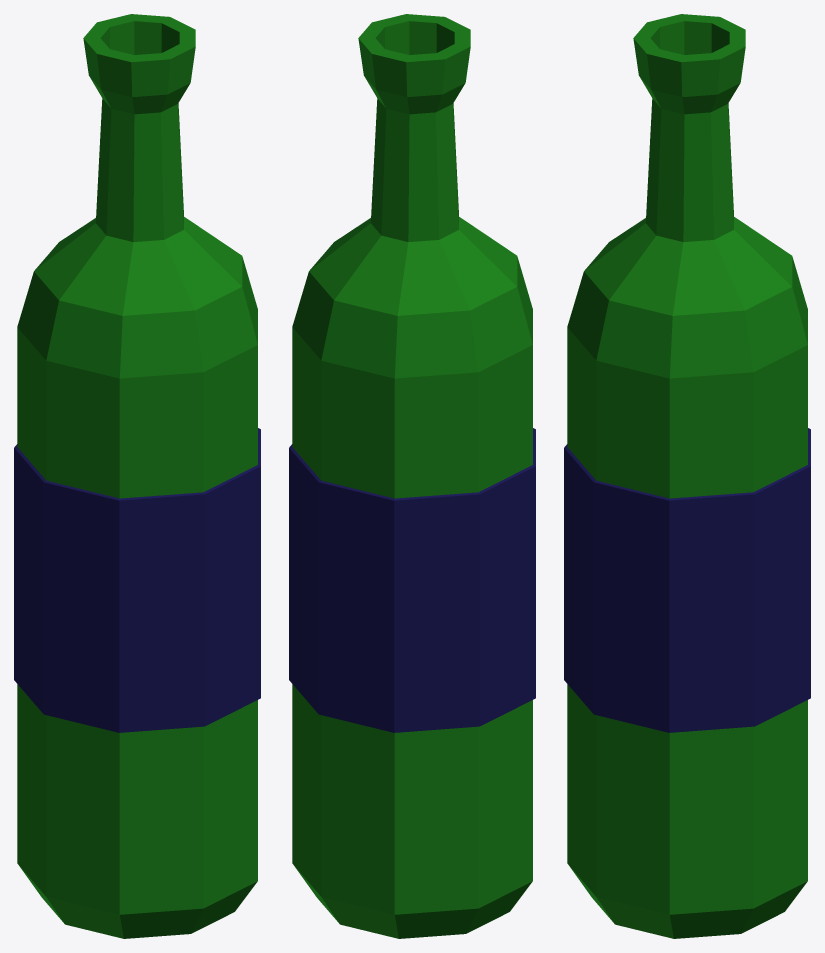
File: bottle_2.fbx
3 views of the same model, side by side, from view 1: azimuth 30°, elevation 25°; view 2: azimuth 150°, elevation 25°; view 3: azimuth 270°, elevation 25° (orthographic).
Parts seen in each view (by area): view 1: bottle_4; view 2: bottle_4; view 3: bottle_4.
Boxes of the visible parts, x1=… form: bottle_4: x1=14, y1=14, x2=260, y2=938; bottle_4: x1=289, y1=14, x2=535, y2=938; bottle_4: x1=564, y1=14, x2=810, y2=938.
Size of the model in its own units: 0.2392 by 0.9045 by 0.2355.
